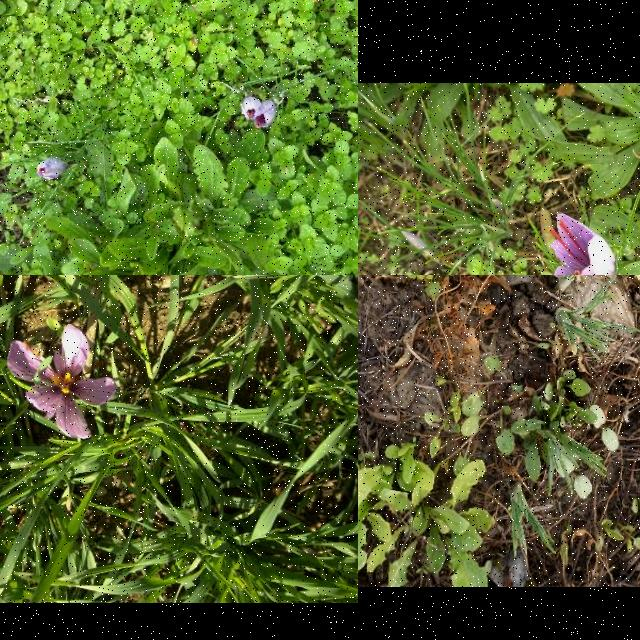flower: (7, 325, 118, 439), (548, 213, 617, 275), (38, 157, 66, 181), (253, 102, 277, 130), (241, 98, 263, 122)
